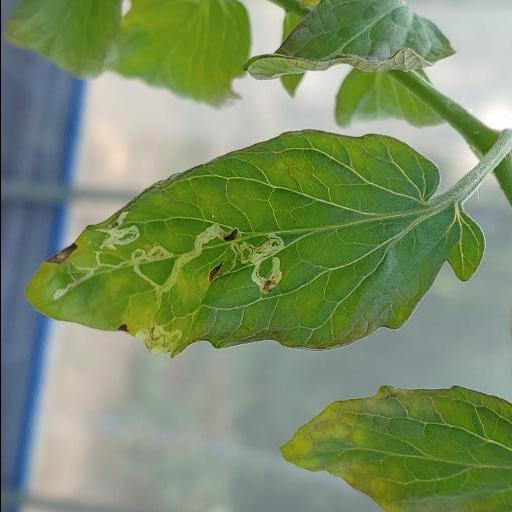Leaf Miner: (21, 128, 487, 362)
